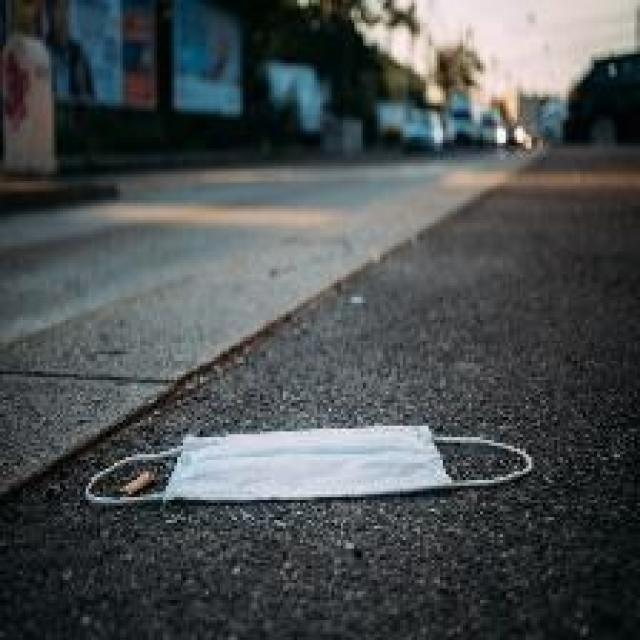Mask: (86, 418, 540, 546)
